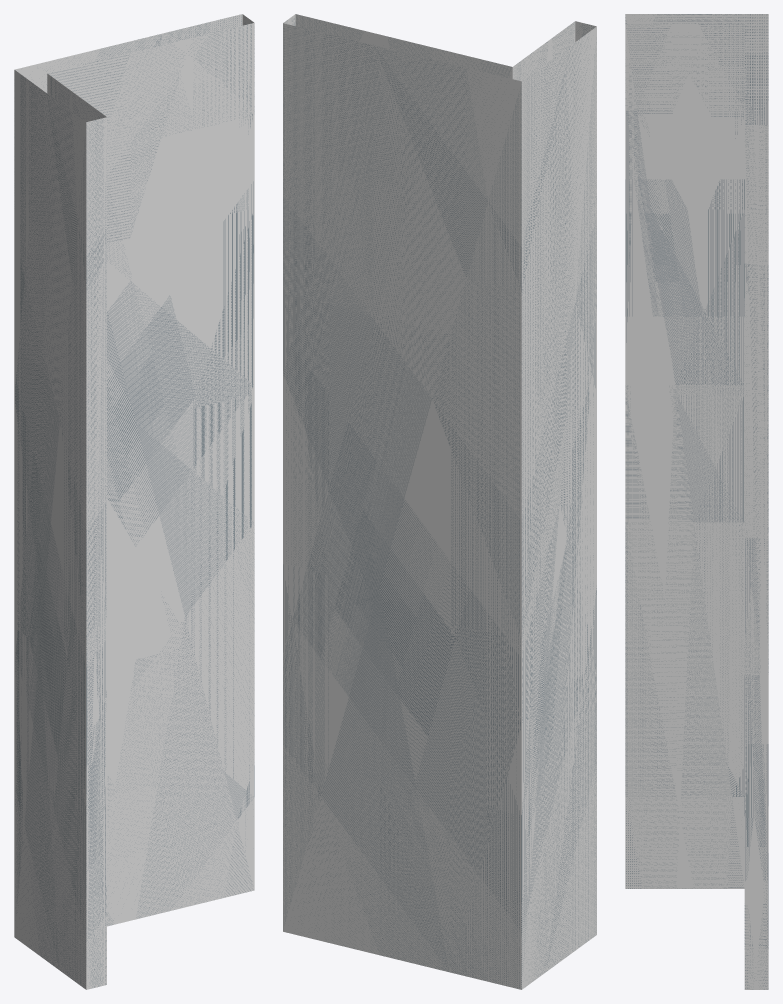
Rendered from PW_CornerFixElem_ds_T3_060x110x010x400.dae.
3 views of the same model, side by side, from view 1: azimuth 30°, elevation 25°; view 2: azimuth 150°, elevation 25°; view 3: azimuth 270°, elevation 25° (orthographic). The views are drawn at different scales.
Visible parts, largest first — view 1: group_0; view 2: group_0; view 3: group_0.
Boxes of the visible parts, x1,y1,x2,y2 form: group_0: (14,14,254,989); group_0: (283,14,596,989); group_0: (625,14,768,989).
Bounding box in the file's own units: 43.31 × 23.62 × 157.
